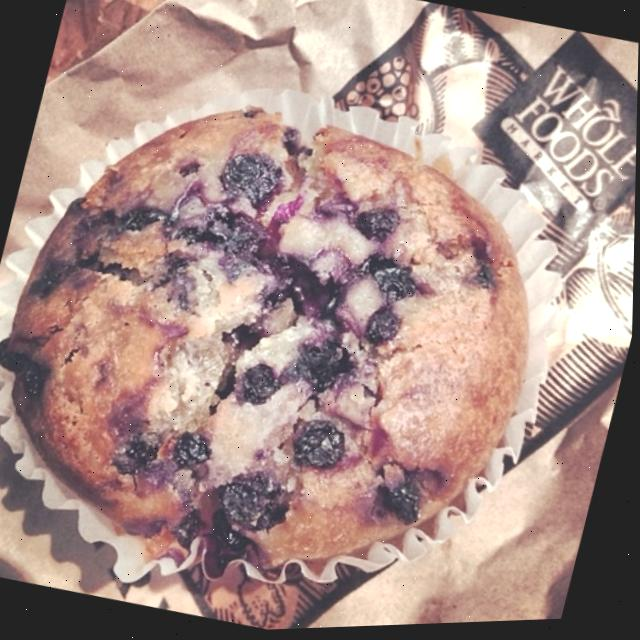炸货点心: (0, 38, 598, 640)
面包点心: (0, 38, 598, 640)
